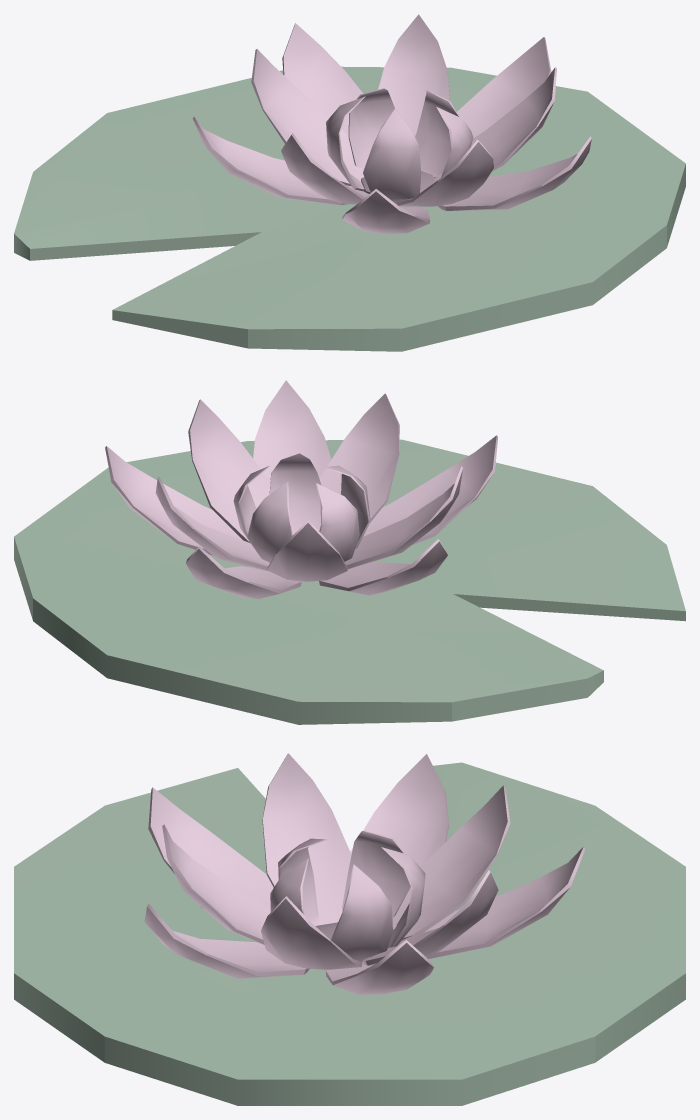
File: nenuphar_combined_lotus.fbx
3 views of the same model, one above another, from view 1: azimuth 30°, elevation 25°; view 2: azimuth 150°, elevation 25°; view 3: azimuth 270°, elevation 25° (orthographic). The views are drawn at different scales.
Visible parts, largest first — view 1: nenuphar1; view 2: nenuphar1; view 3: nenuphar1.
Boxes of the visible parts, x1,y1,x2,y2 form: nenuphar1: [14, 14, 685, 351]; nenuphar1: [14, 380, 685, 724]; nenuphar1: [14, 753, 685, 1105].
Bounding box in the file's own units: 1.12 × 0.2448 × 1.
